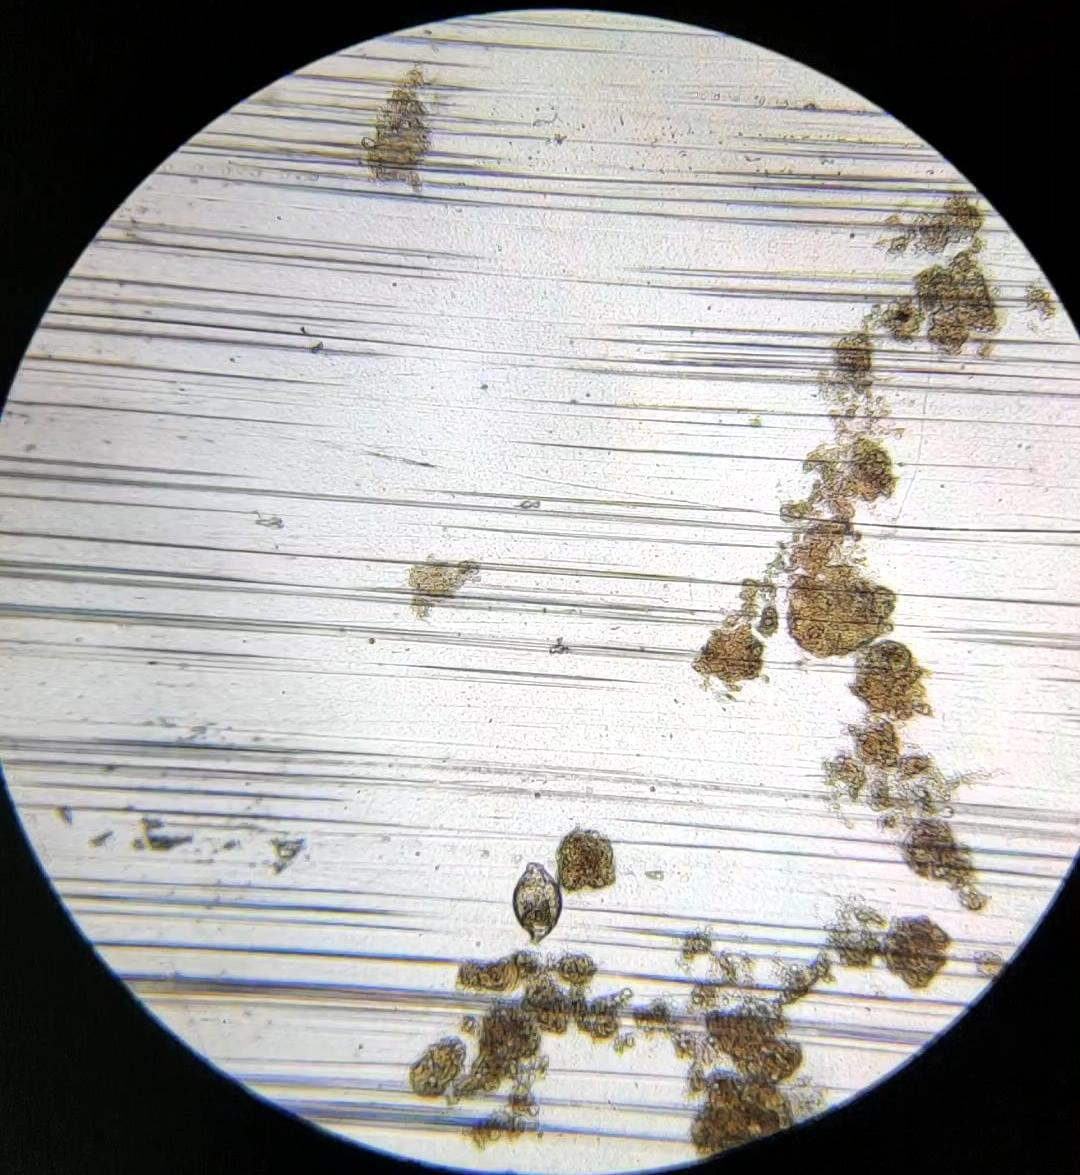Do: (514, 862, 562, 948)
